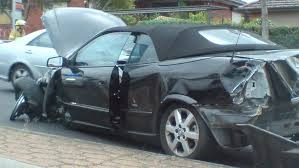Broken-glass: (229, 61, 276, 110)
Dent: (122, 61, 171, 118)
Smashed: (12, 66, 79, 123)
